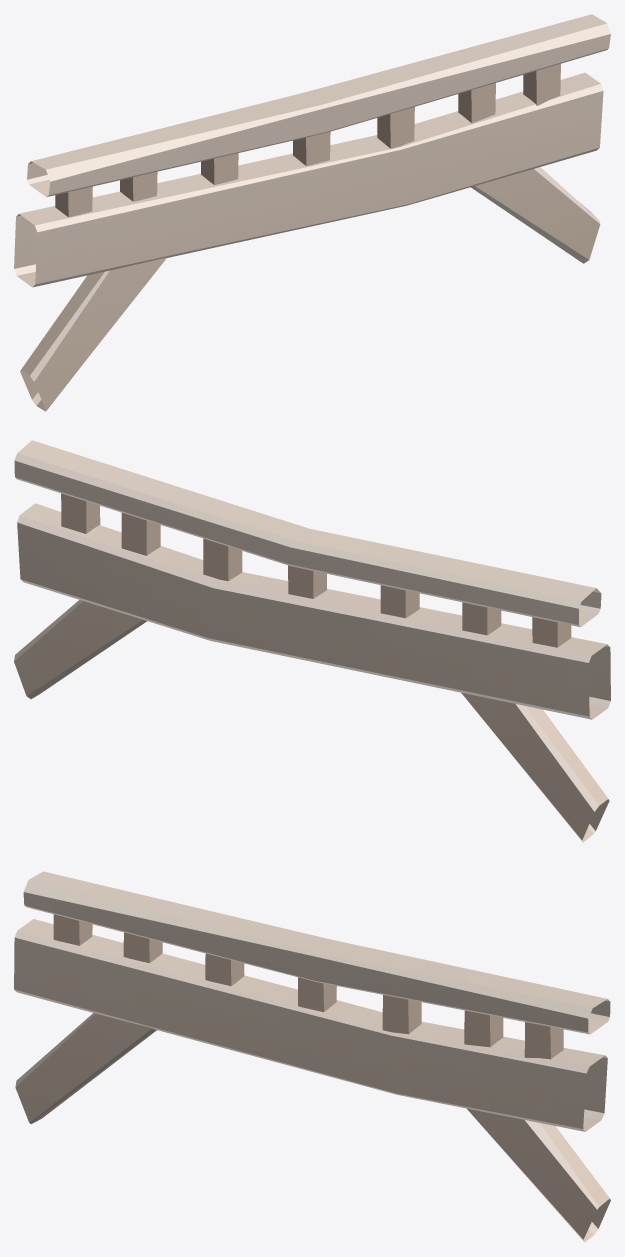
Rendered from Mostic.fbx.
3 views of the same model, one above another, from view 1: azimuth 30°, elevation 25°; view 2: azimuth 150°, elevation 25°; view 3: azimuth 330°, elevation 25° (orthographic).
Parts seen in each view (by area): view 1: Mostic; view 2: Mostic; view 3: Mostic.
Boxes of the visible parts, x1=… form: Mostic: x1=14, y1=14, x2=610, y2=411; Mostic: x1=14, y1=440, x2=610, y2=842; Mostic: x1=14, y1=871, x2=610, y2=1242.
Bounding box in the file's own units: 338 × 143 × 28.45.
